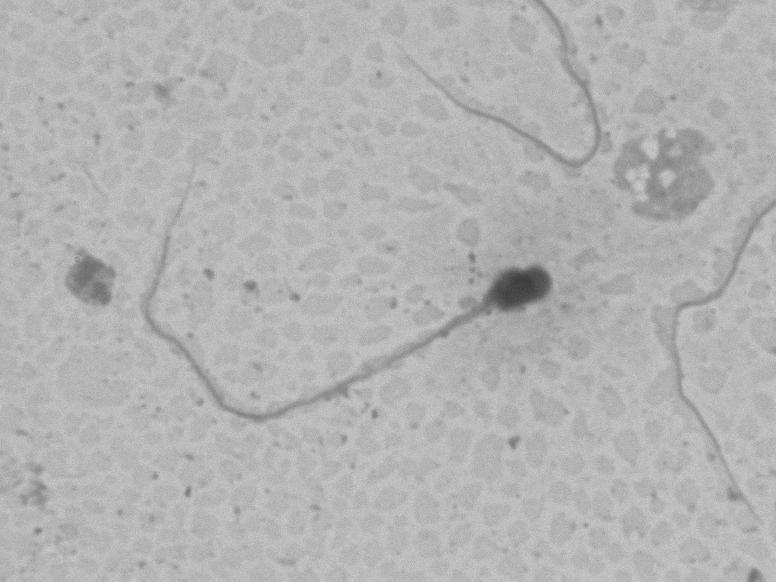Abnormal: (123, 139, 563, 436)
